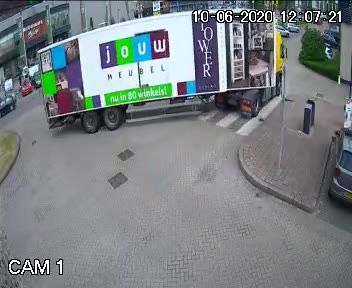car: (28, 11, 289, 131)
